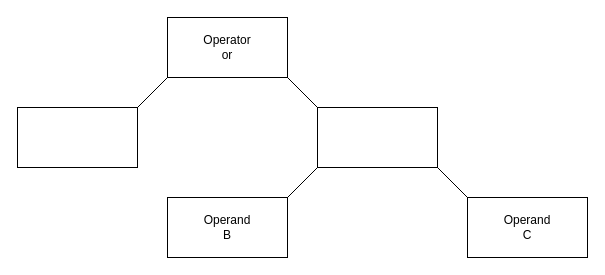
Some shapes in this 605 by 275 pixel diagram are drawn without their labels. The shapes that lost their labels are listed below. From the top down, each one's box as (x1, y1, x2, y2) in pixels, then its label:
(16, 106, 138, 168): Operand A
(316, 106, 438, 168): Operator and
